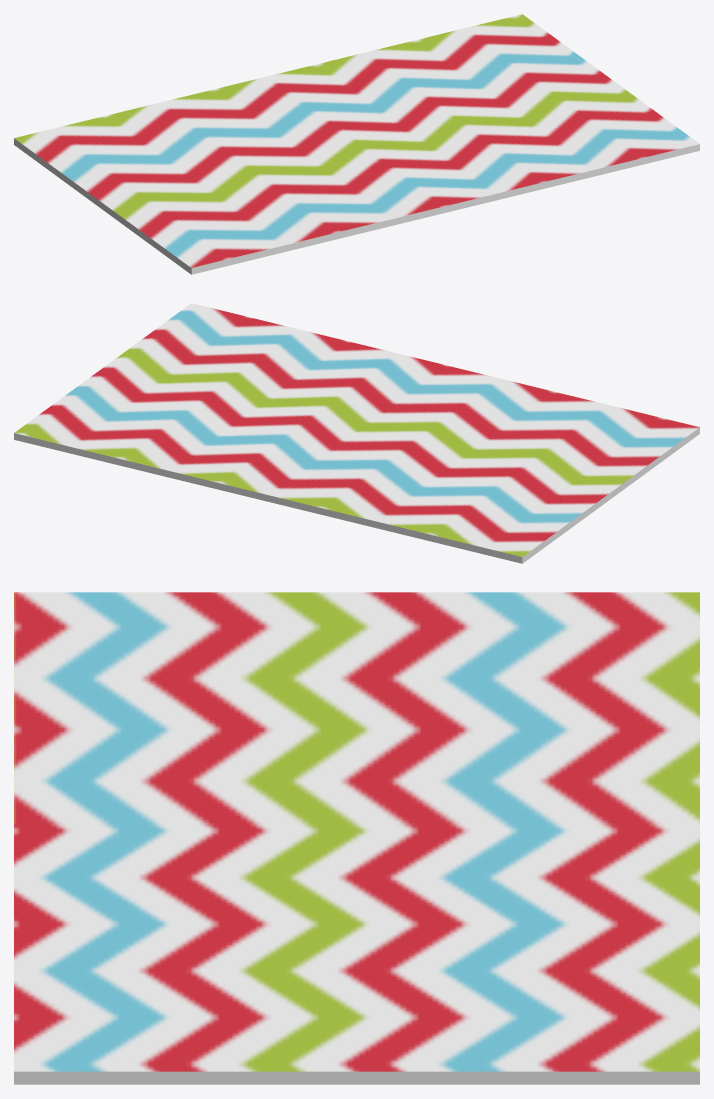
3 views of the same model, one above another, from view 1: azimuth 30°, elevation 25°; view 2: azimuth 150°, elevation 25°; view 3: azimuth 270°, elevation 25° (orthographic). The views are drawn at different scales.
Parts seen in each view (by area): view 1: Mat_B; view 2: Mat_B; view 3: Mat_B.
Boxes of the visible parts, left/top/right/bottom form: Mat_B: left=14, top=14, right=699, bottom=274; Mat_B: left=14, top=303, right=699, bottom=563; Mat_B: left=14, top=592, right=699, bottom=1084.
Bounding box in the file's own units: 268 × 3.38 × 162.
